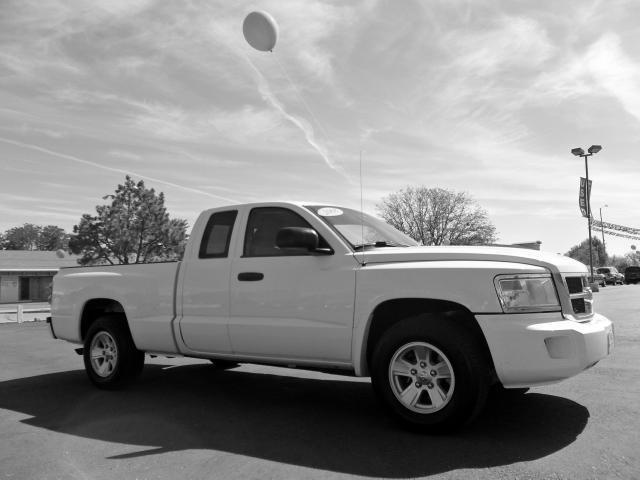car: (45, 199, 615, 432)
